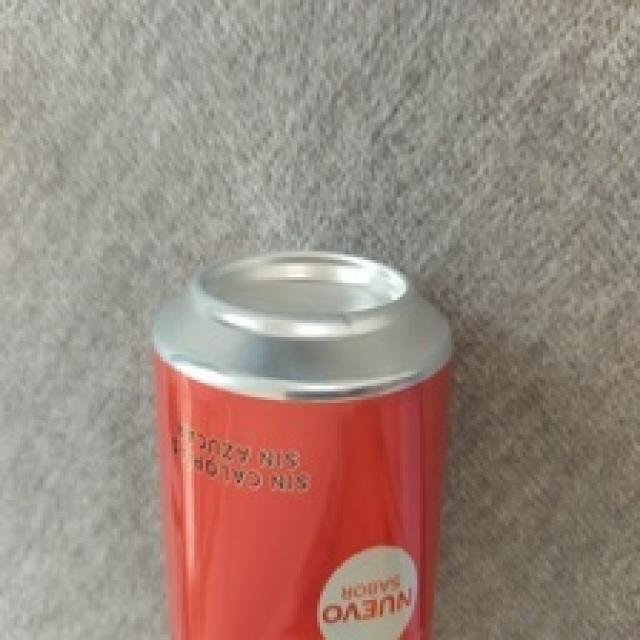recyclable: (147, 251, 455, 640)
